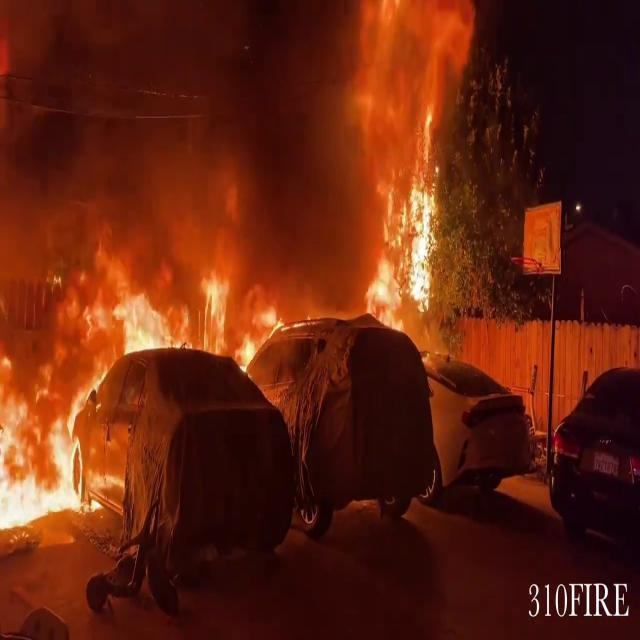Fire: (0, 247, 158, 538), (361, 15, 475, 324), (161, 228, 290, 373)
Smoke: (0, 0, 363, 224)
